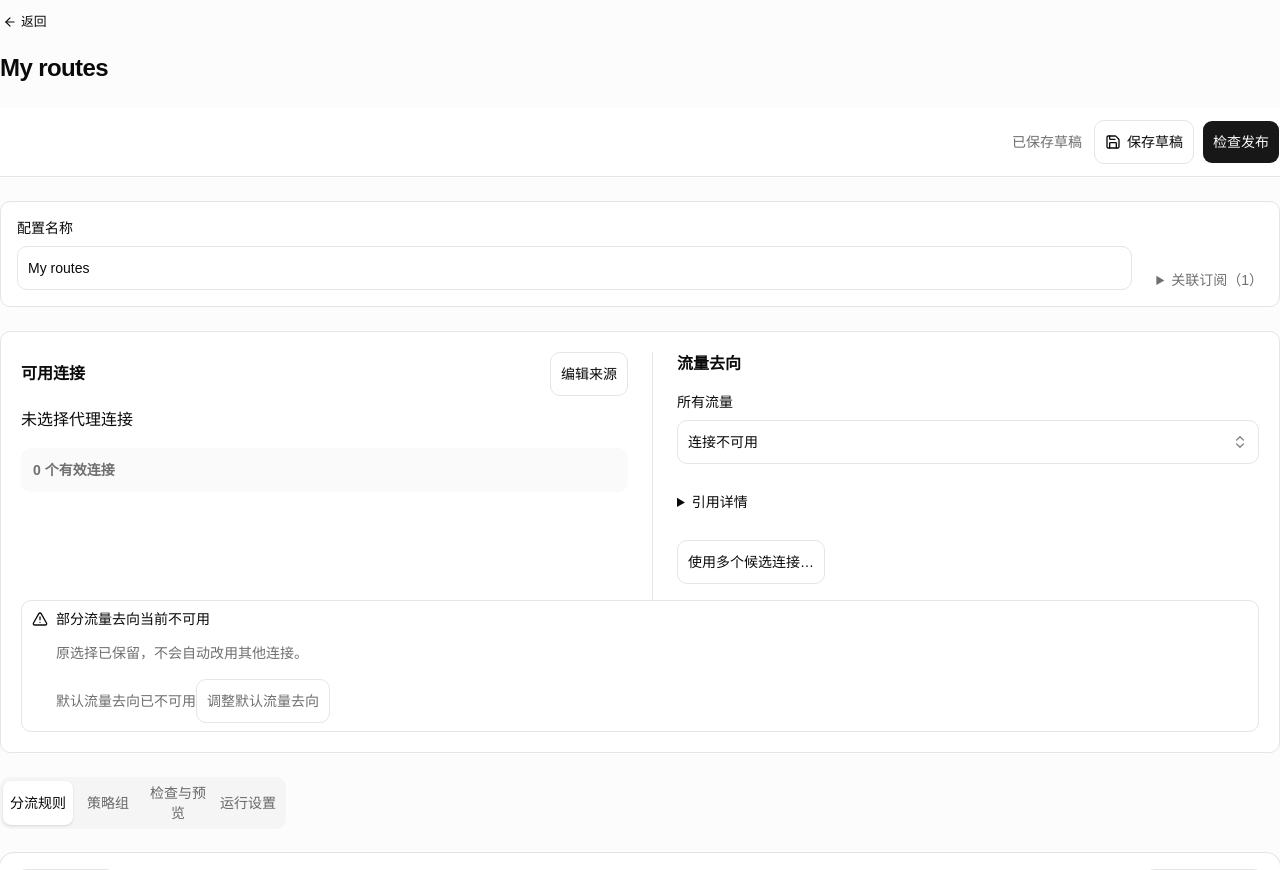
returns from an existing subscription check to the exact repair control without publishing
Click the button "检查发布". click: (1241, 142)
box: 1202,120 -> 1279,164
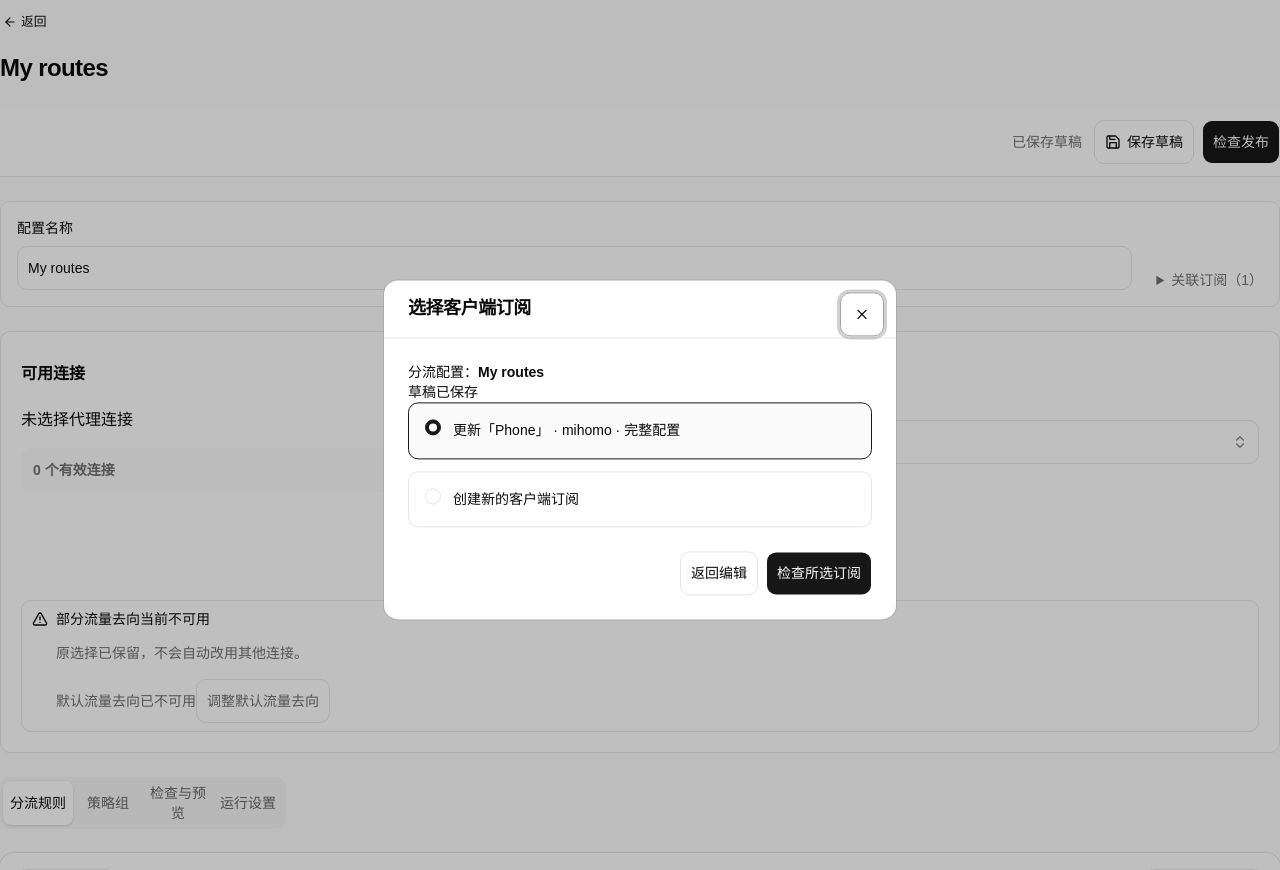
Click the button "检查所选订阅". click: (819, 574)
box: 766,552 -> 872,596
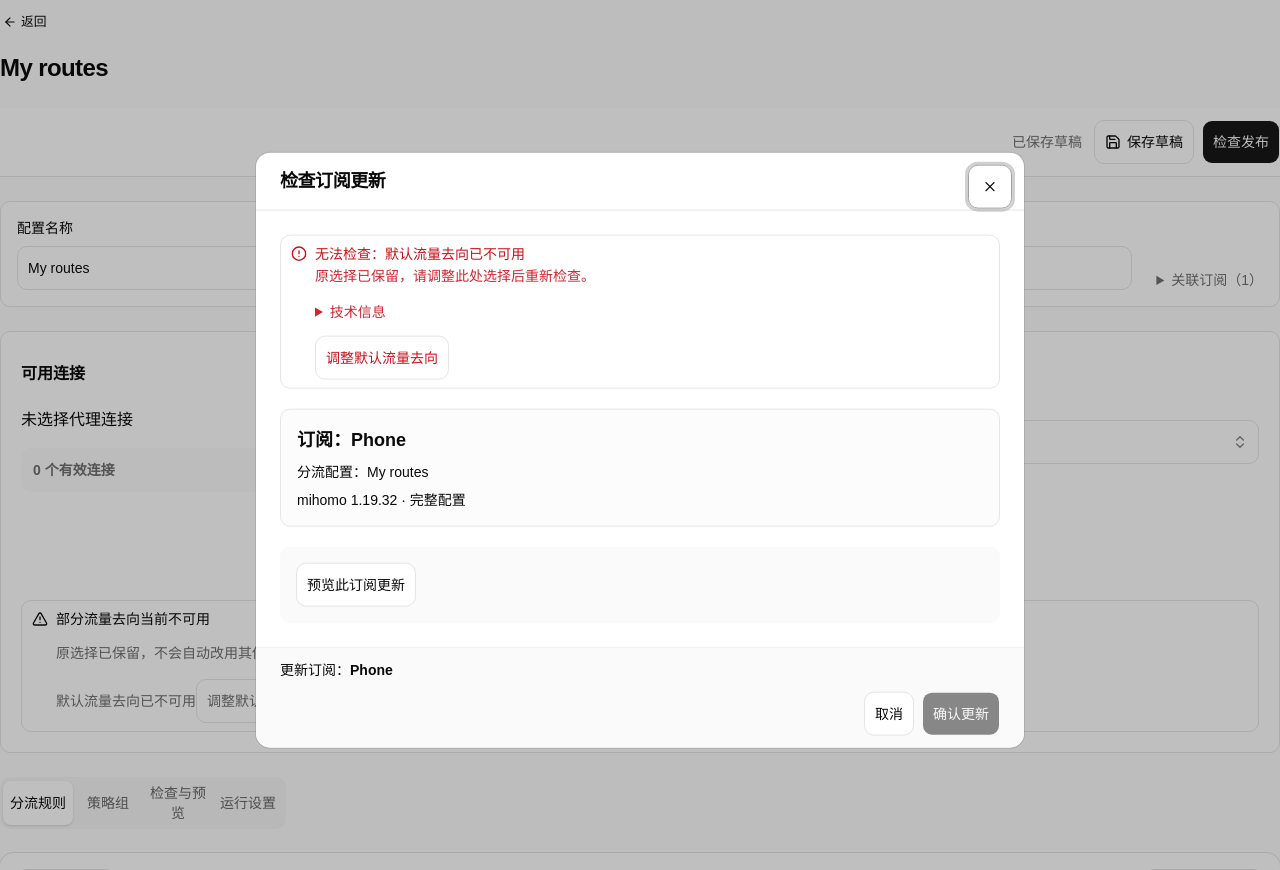
Click the button "调整默认流量去向". click: (382, 357)
box: 315,335 -> 449,379
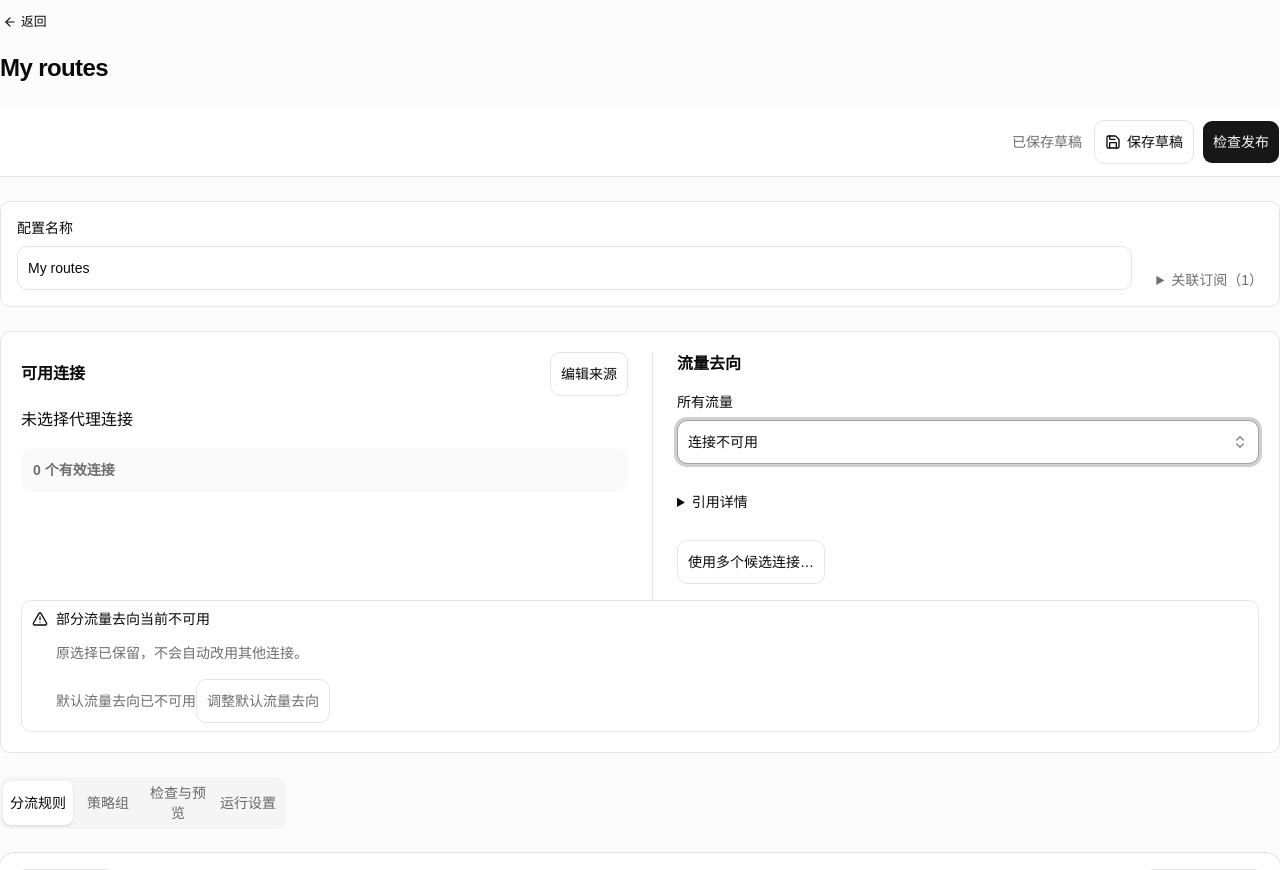
Result: the dialog is gone
